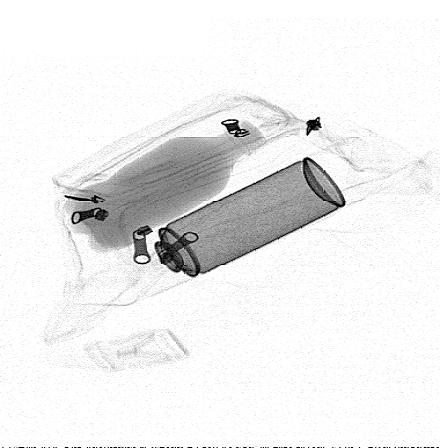Sprayer: (114, 156, 348, 298)
